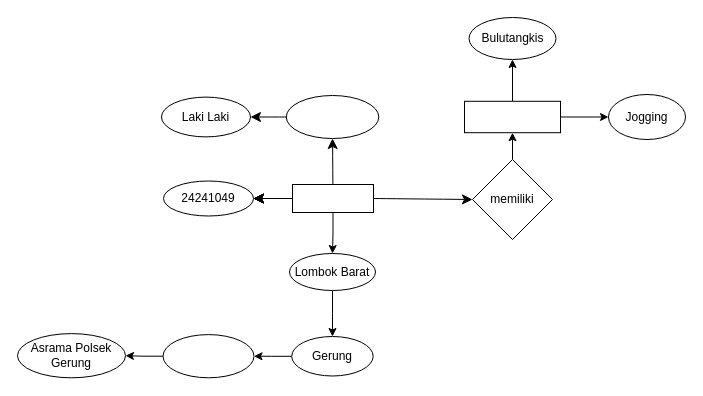
Image size: 703x396. Some labels were removed from this diagram. Each missing label, with the box of its shape:
Alief Hikham Pratama: (285, 94, 379, 138)
Gerung Utara: (162, 334, 254, 378)
Hobi: (464, 100, 560, 133)
Mahasiswa: (292, 184, 374, 212)
